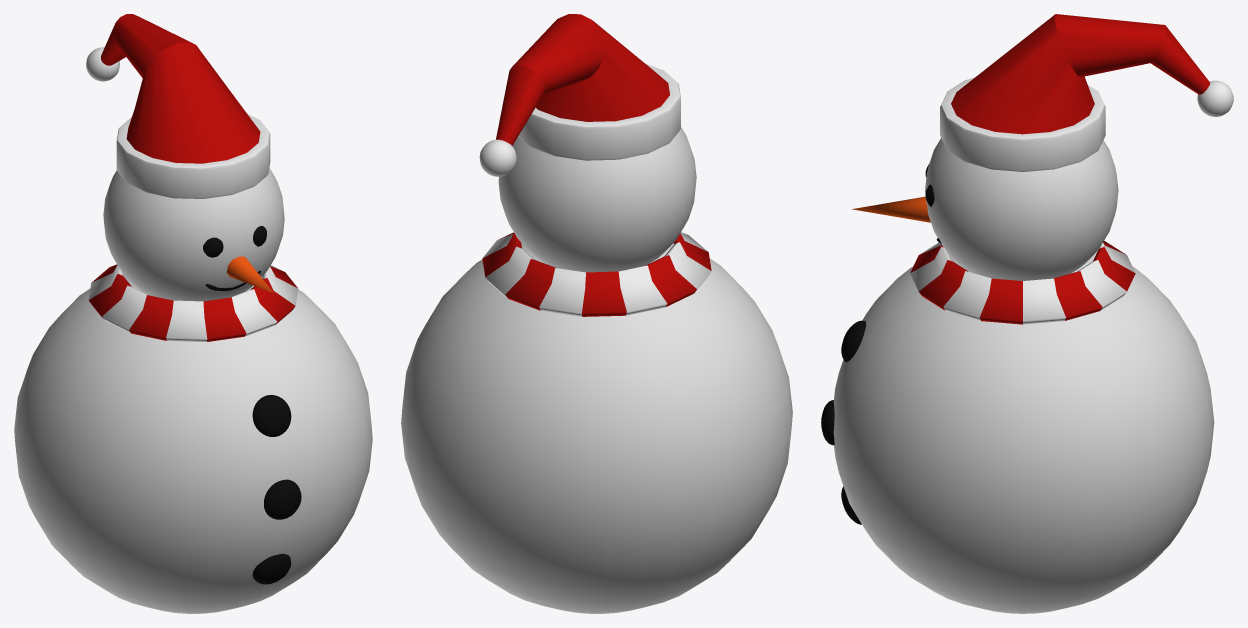
The model's file is Snowman.fbx.
3 renders of one model, left to right at view 1: azimuth 30°, elevation 25°; view 2: azimuth 150°, elevation 25°; view 3: azimuth 270°, elevation 25°, orthographic. The views are drawn at different scales.
Parts seen in each view (by area): view 1: Sphere, Circle.001, Sphere.001, Circle.002, Sphere.003, Sphere.002, Cone, Sphere.004; view 2: Sphere, Circle.001, Sphere.001, Circle.002; view 3: Sphere, Circle.001, Sphere.001, Circle.002, Cone, Sphere.003.
Part boxes in pixels (left/top/right/bottom): Sphere: left=14, top=274, right=372, bottom=613; Circle.001: left=86, top=14, right=270, bottom=198; Sphere.001: left=103, top=168, right=284, bottom=301; Circle.002: left=88, top=264, right=298, bottom=341; Sphere.003: left=252, top=395, right=291, bottom=584; Sphere.002: left=264, top=479, right=301, bottom=519; Cone: left=226, top=256, right=273, bottom=292; Sphere.004: left=203, top=226, right=266, bottom=257; Sphere: left=401, top=242, right=792, bottom=613; Circle.001: left=479, top=14, right=680, bottom=176; Sphere.001: left=498, top=127, right=696, bottom=272; Circle.002: left=482, top=232, right=711, bottom=316; Sphere: left=833, top=249, right=1214, bottom=613; Circle.001: left=940, top=14, right=1233, bottom=171; Sphere.001: left=925, top=138, right=1118, bottom=280; Circle.002: left=910, top=241, right=1135, bottom=324; Cone: left=852, top=196, right=930, bottom=222; Sphere.003: left=841, top=320, right=866, bottom=524.
Size of the model in its own units: 200 by 334 by 216.
